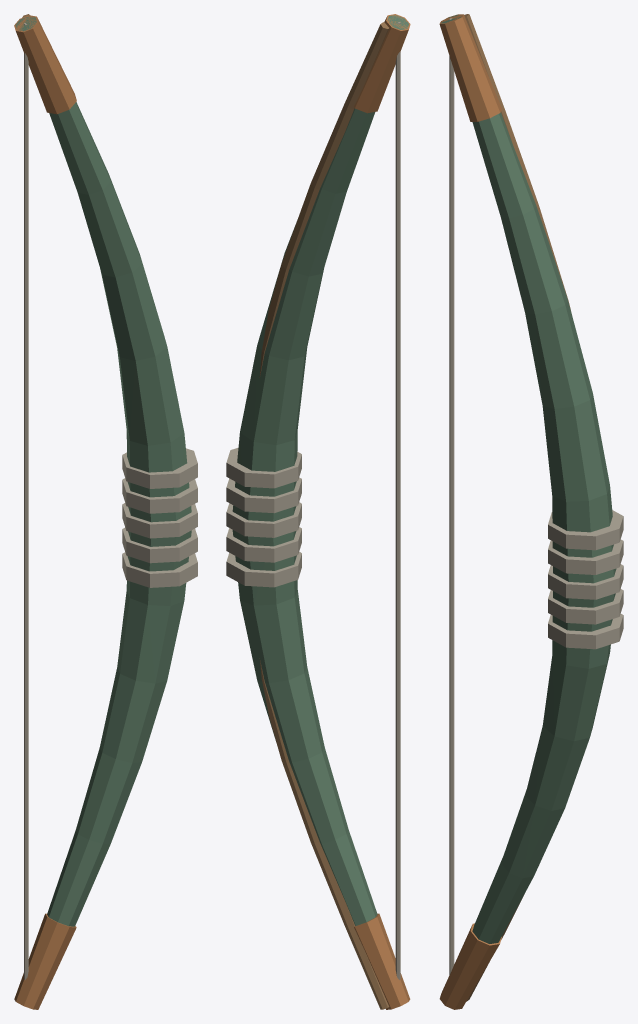
File: AEW_Bow_FenReed.fbx
3 views of the same model, side by side, from view 1: azimuth 30°, elevation 25°; view 2: azimuth 150°, elevation 25°; view 3: azimuth 330°, elevation 25° (orthographic).
Parts seen in each view (by area): view 1: AEW_Bow_FenReed; view 2: AEW_Bow_FenReed; view 3: AEW_Bow_FenReed.
Part boxes in pixels (x1,y1,x2,y2): AEW_Bow_FenReed: (14,14,197,1009); AEW_Bow_FenReed: (226,14,410,1009); AEW_Bow_FenReed: (439,14,623,1009).
Size of the model in its own units: 0.2265 by 1.2 by 0.086.
